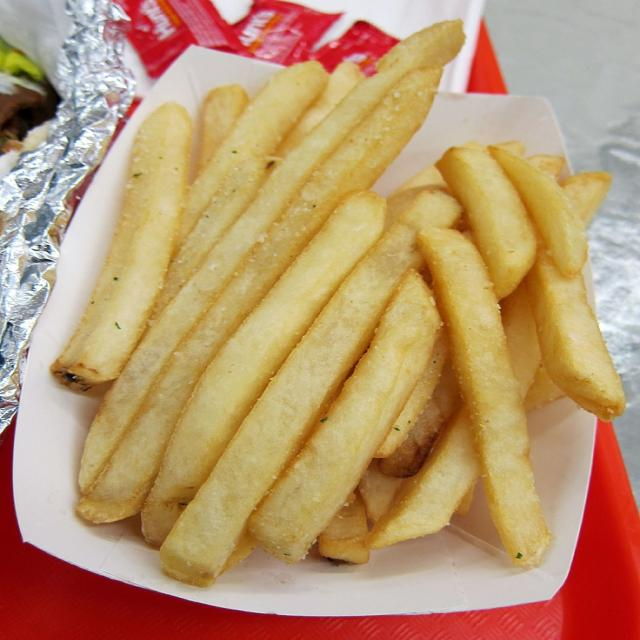potato fries: (79, 54, 548, 585), (420, 229, 551, 565), (52, 103, 192, 390)
